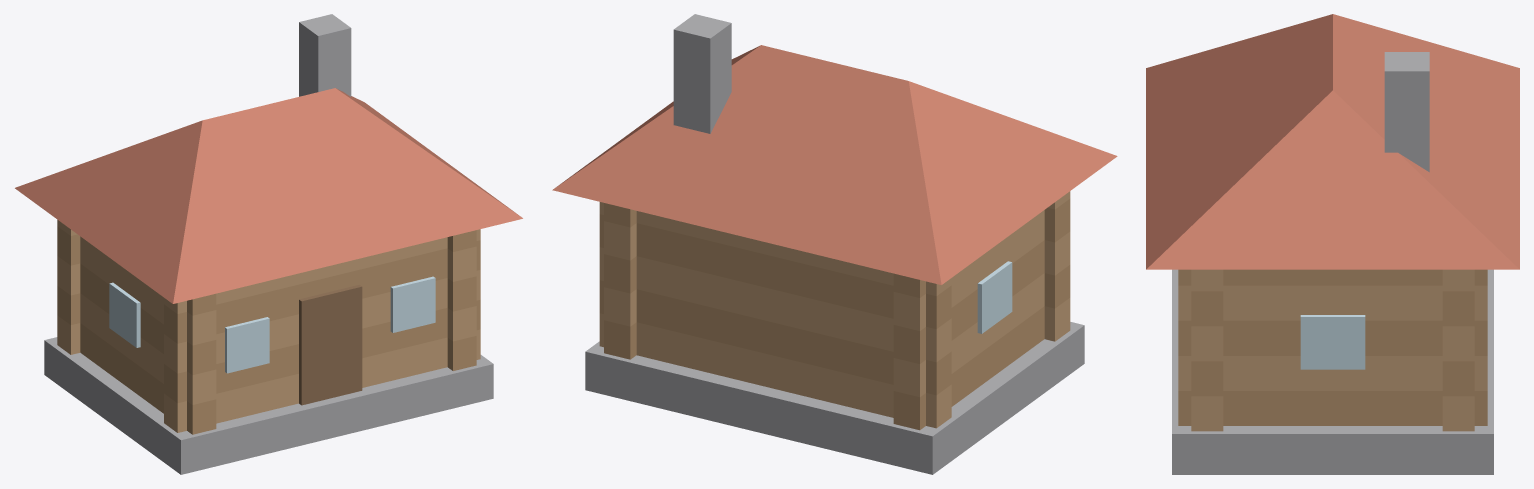
Rendered from cabin.glb.
3 renders of one model, left to right at view 1: azimuth 30°, elevation 25°; view 2: azimuth 150°, elevation 25°; view 3: azimuth 270°, elevation 25°, orthographic. The views are drawn at different scales.
Parts seen in each view (by area): view 1: cabin; view 2: cabin; view 3: cabin.
Boxes of the visible parts, left/top/right/bottom form: cabin: left=15, top=14, right=522, bottom=474; cabin: left=552, top=14, right=1117, bottom=474; cabin: left=1146, top=14, right=1519, bottom=474.
Size of the model in its own units: 3.7 by 3.2 by 2.9.
